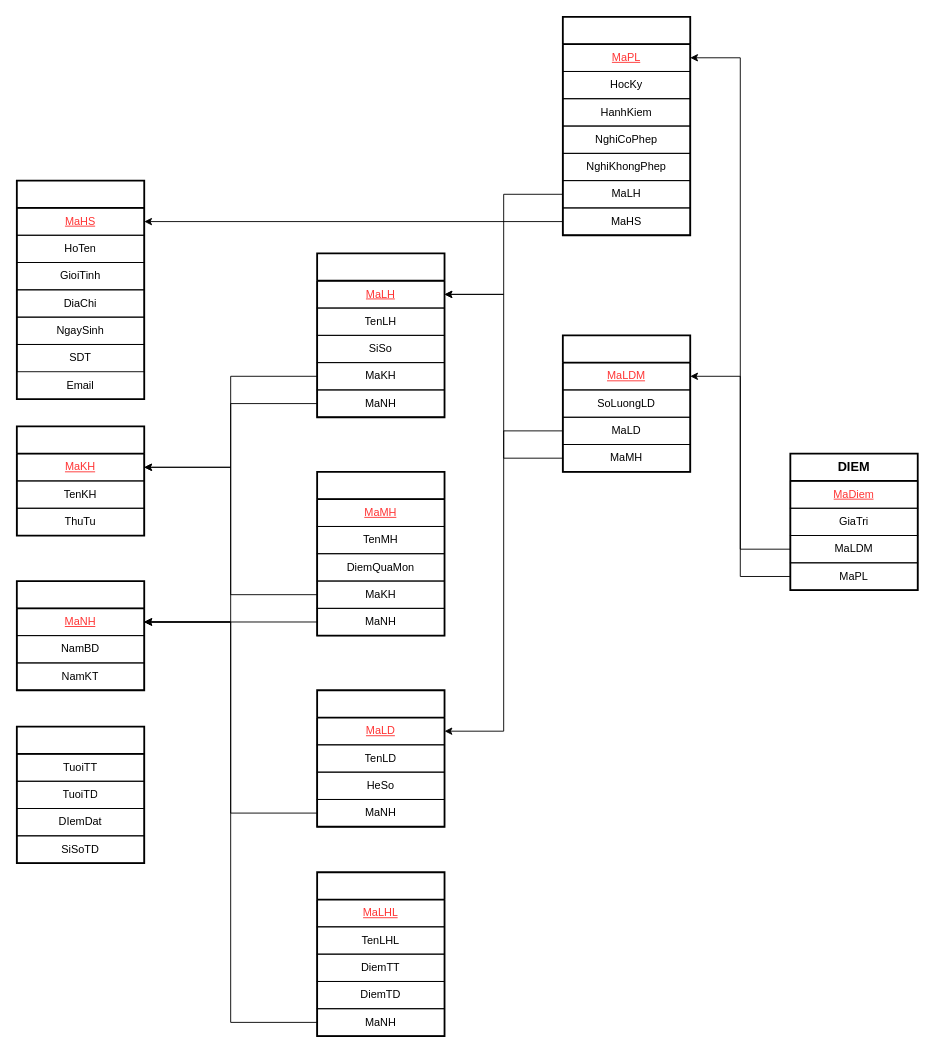
The diagram is 934 pixels wide and 1052 high, and some of its shapes have lost their labels. The box of each missing label's shape, as (x1, y1, x2, y2) in pixels:
HOCSINH: (15, 179, 145, 399)
KHOI: (15, 425, 145, 536)
LOAIDIEM: (316, 689, 445, 827)
LOAIDIEMMON: (561, 334, 691, 472)
LOAIHOCLUC: (316, 871, 445, 1036)
LOP: (316, 252, 445, 418)
MONHOC: (316, 470, 445, 636)
NAMHOC: (15, 580, 145, 691)
PHANLOP: (561, 15, 691, 236)
THAMSO: (15, 725, 145, 864)
